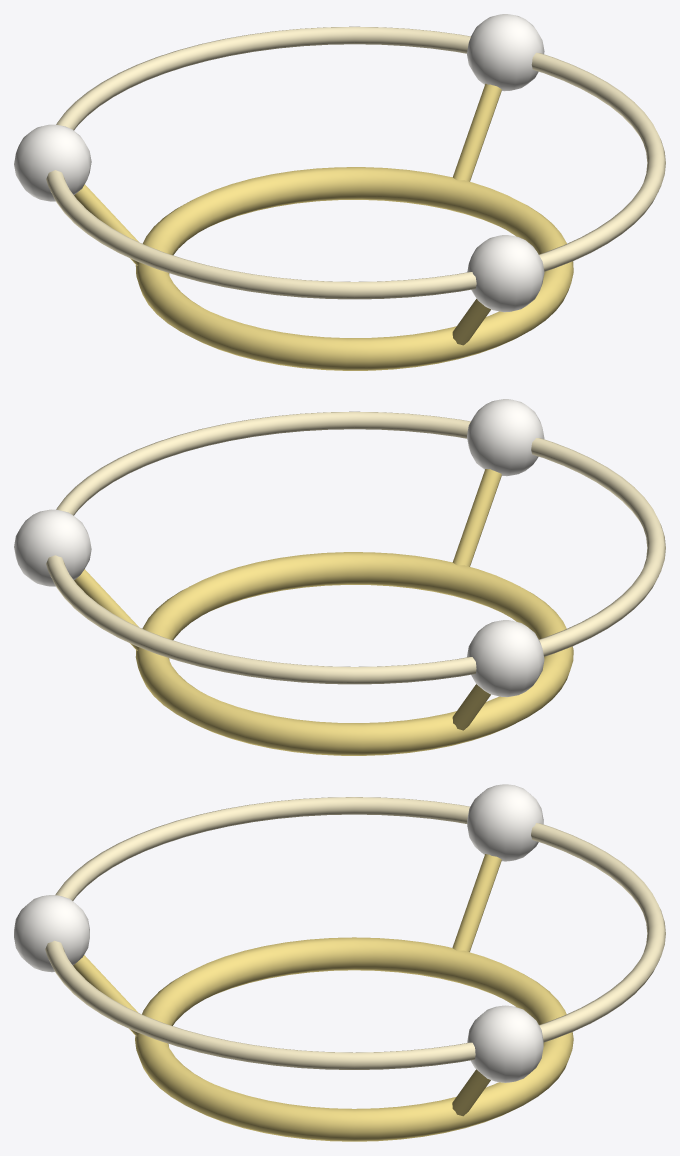
Rendered from orbit-crown-meetup-3.glb.
The picture shows the model from 3 angles, top to bottom: view 1: azimuth 30°, elevation 25°; view 2: azimuth 150°, elevation 25°; view 3: azimuth 270°, elevation 25°; orthographic projection.
Visible parts, largest first — view 1: circlet, orbit, pearls, stems; view 2: circlet, orbit, pearls, stems; view 3: circlet, orbit, pearls, stems.
Part boxes in pixels (left/top/right/bottom): circlet: left=135, top=167, right=573, bottom=370; orbit: left=46, top=26, right=665, bottom=299; pearls: left=14, top=14, right=544, bottom=312; stems: left=74, top=83, right=501, bottom=345; circlet: left=135, top=552, right=573, bottom=755; orbit: left=46, top=411, right=665, bottom=684; pearls: left=14, top=399, right=544, bottom=697; stems: left=74, top=469, right=501, bottom=730; circlet: left=135, top=937, right=573, bottom=1141; orbit: left=45, top=797, right=665, bottom=1069; pearls: left=14, top=784, right=543, bottom=1082; stems: left=73, top=854, right=501, bottom=1116.
Size of the model in its own units: 0.3196 by 0.0881 by 0.3343.
